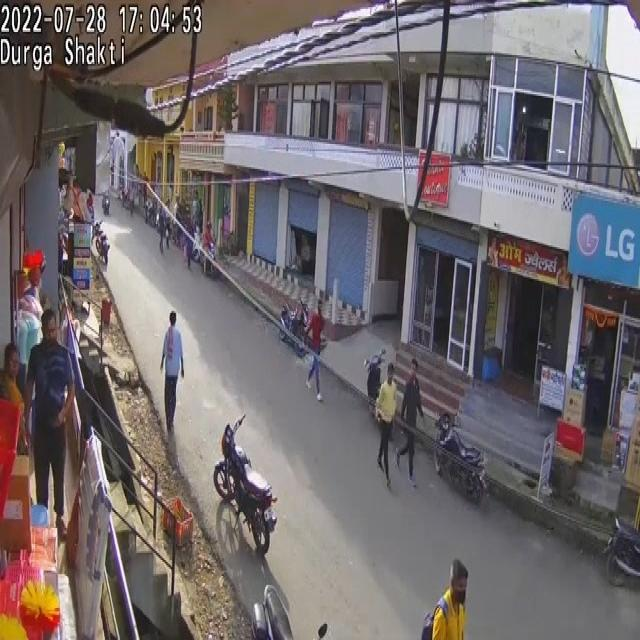non-fight: (24, 309, 76, 540), (396, 357, 424, 481), (374, 363, 398, 487), (160, 309, 183, 433), (1, 343, 27, 445), (304, 301, 326, 400), (202, 221, 215, 272), (192, 193, 202, 233), (172, 198, 180, 240)
